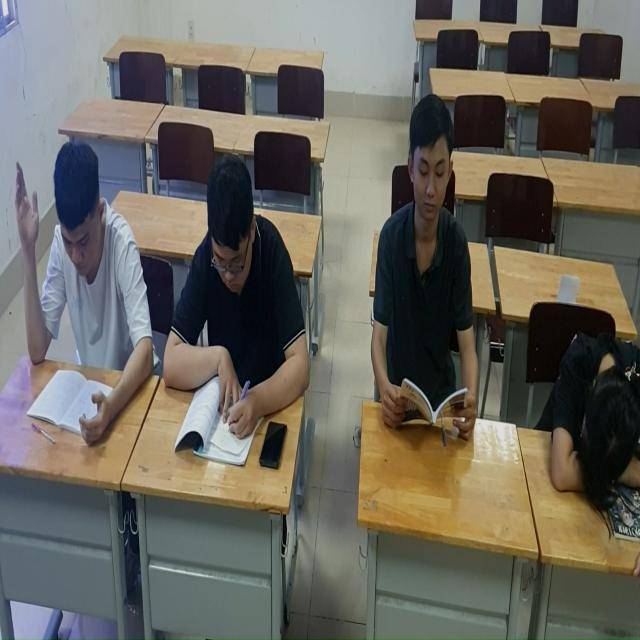raise_hand: (7, 137, 159, 455)
read: (157, 142, 319, 484), (359, 86, 487, 470)
sleep: (541, 295, 640, 524)
